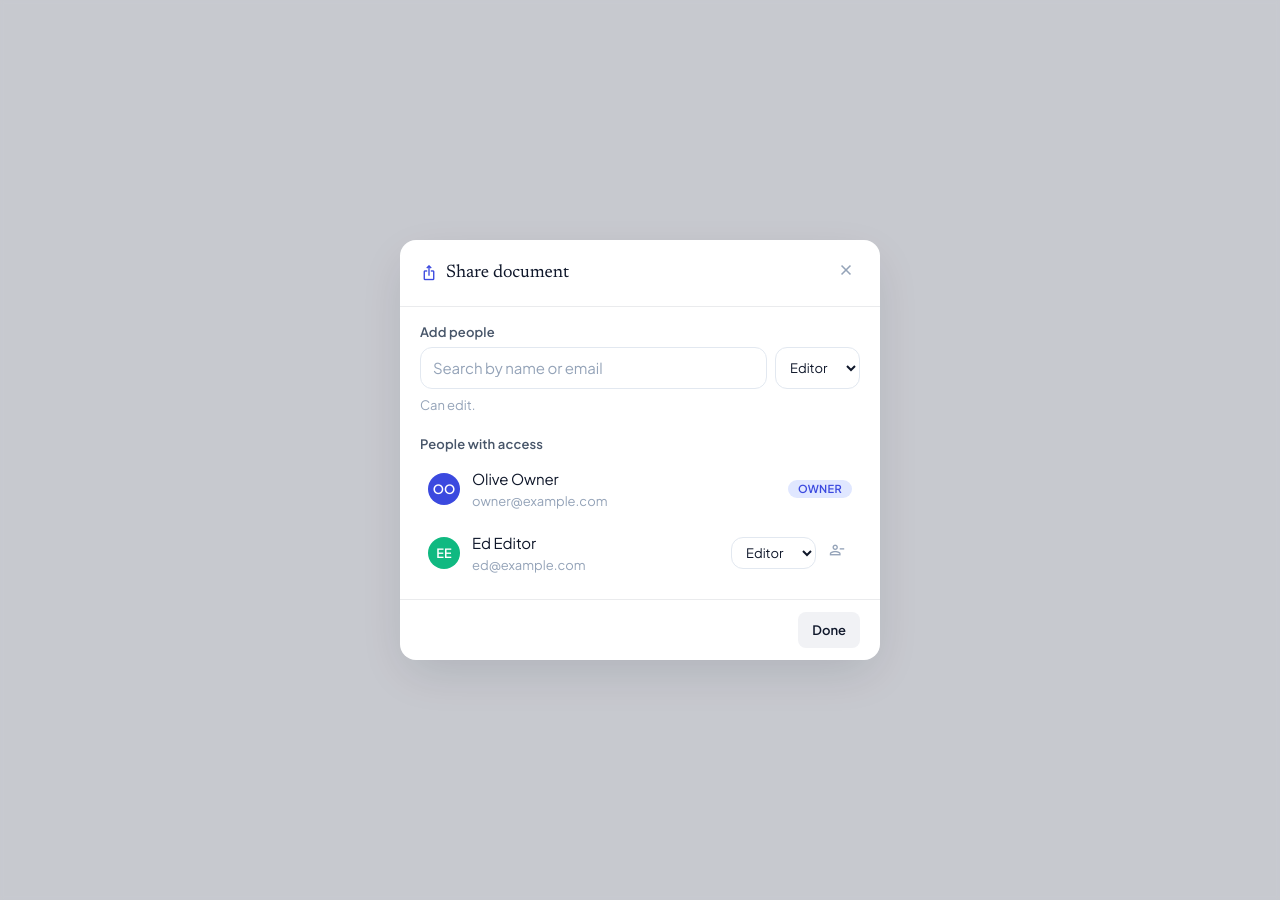
Scenario: ShareDialog (owner) › surfaces a server error as understandable copy
expect the text "Olive Owner" is shown: met, box left=472, top=469, right=559, bottom=488
Type "nina" into the field named "Search users to add" at (594, 368), box left=420, top=347, right=767, bottom=389
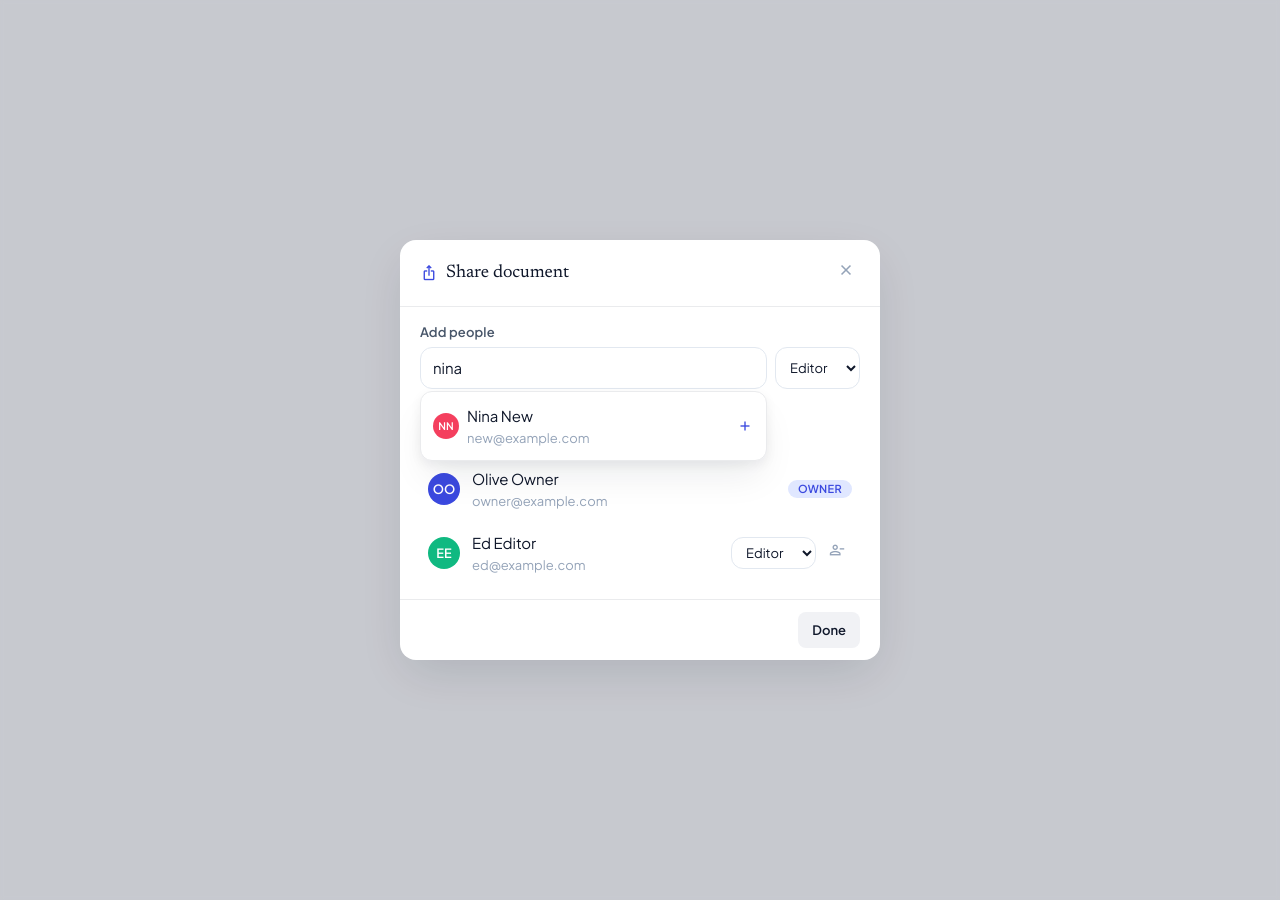
Click the text "Nina New" at (500, 416), box left=467, top=406, right=533, bottom=425
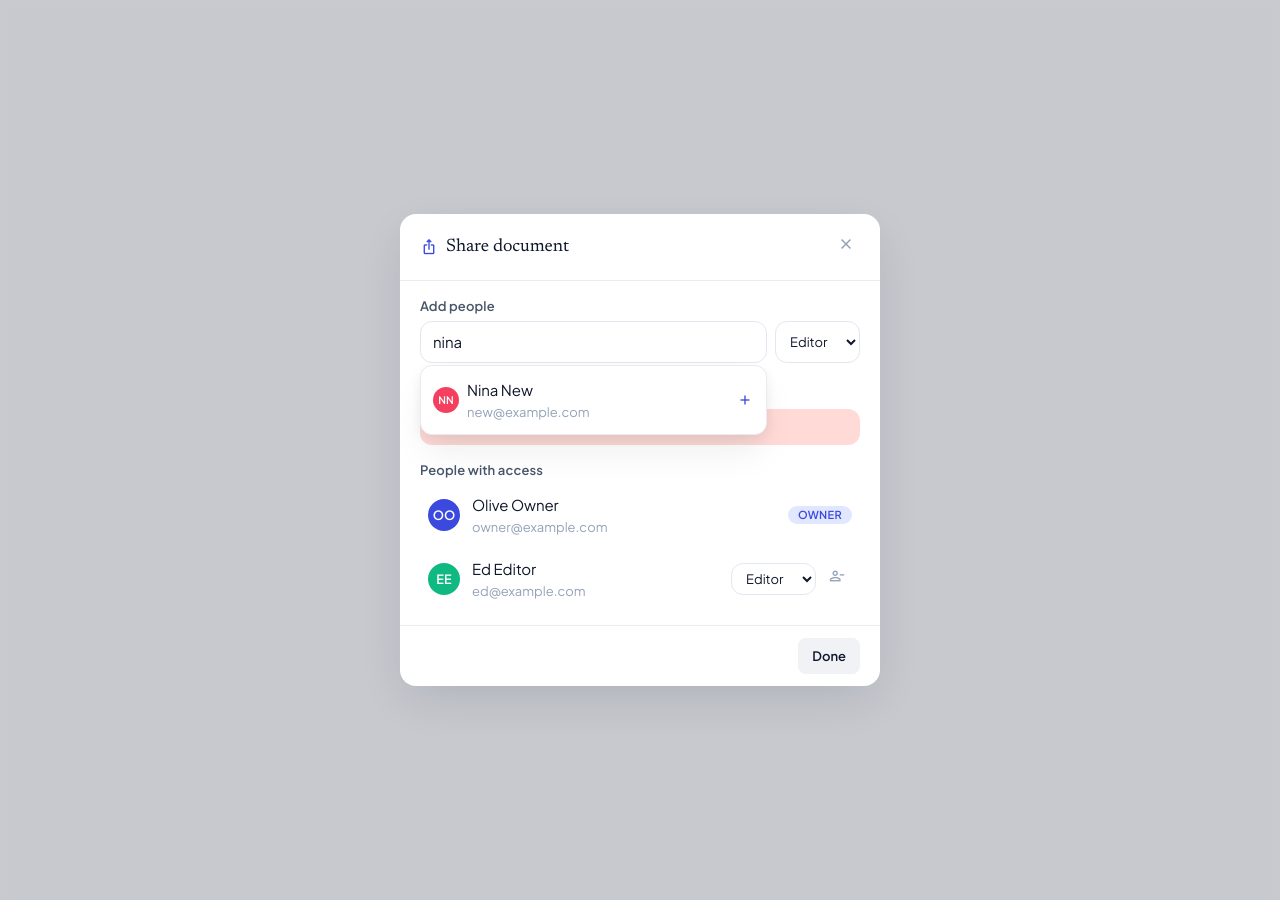
expect the text "User already has access" is shown: met, box left=420, top=409, right=860, bottom=445
